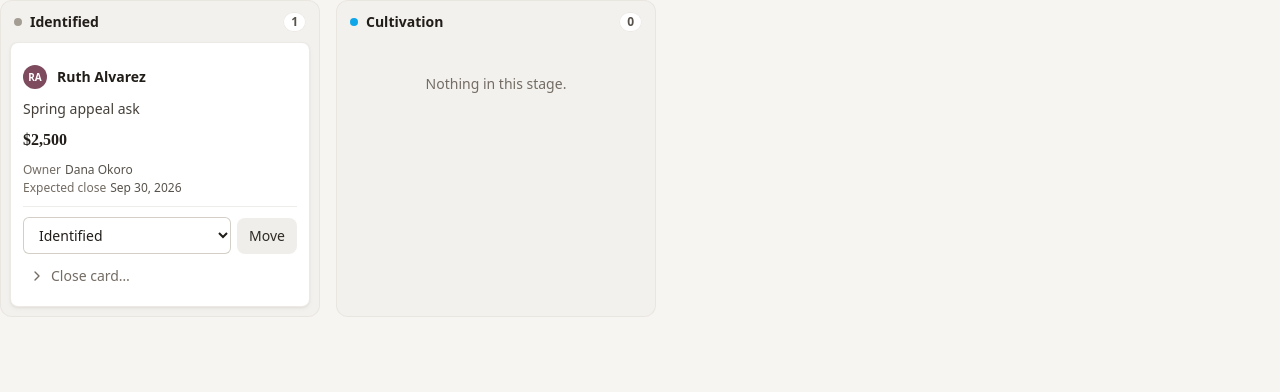
Test case: PipelineBoard › reports a refusal as an alert
The width and height of the screenshot is (1280, 392).
Click the button "Move" at (267, 236), box [237,218,297,254]
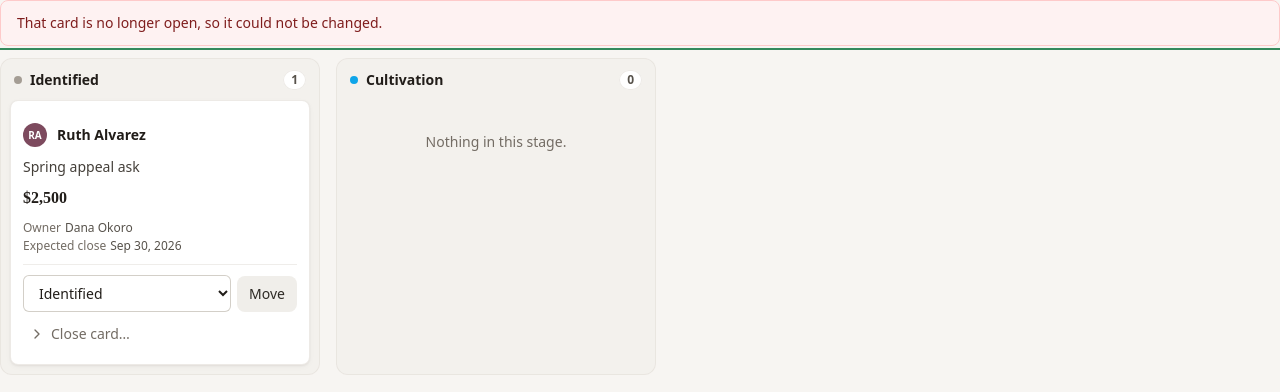
Expected: the message shows "no longer open", [17,13,382,32]
